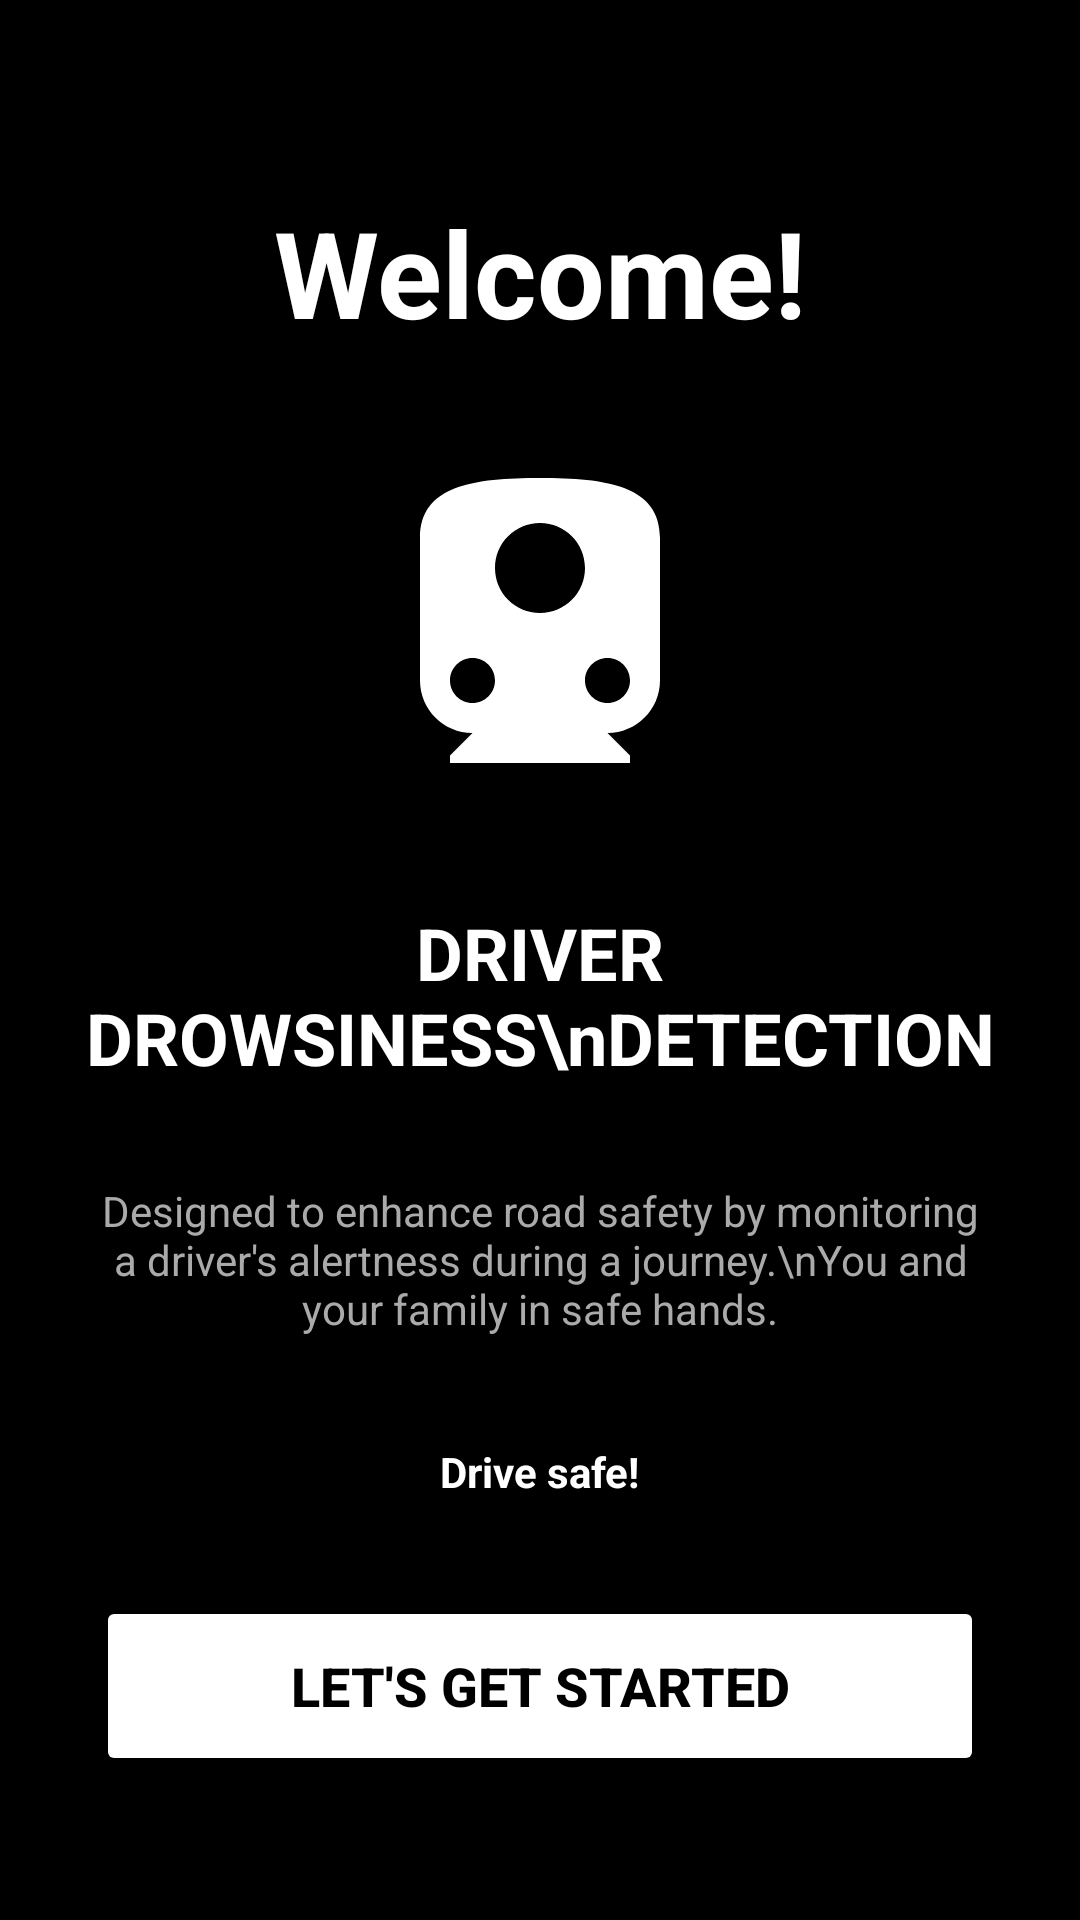

Icon click points for this 1080px×1920px phone screenshot, format (x,y):
Car illustration: (540,620)
